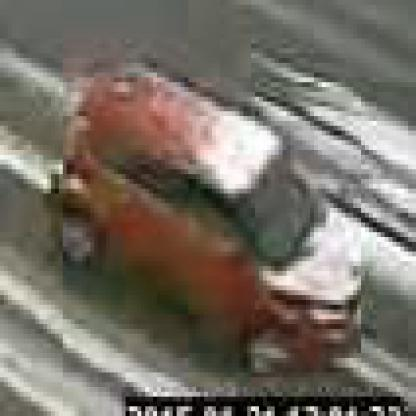car: (64, 84, 366, 379)
